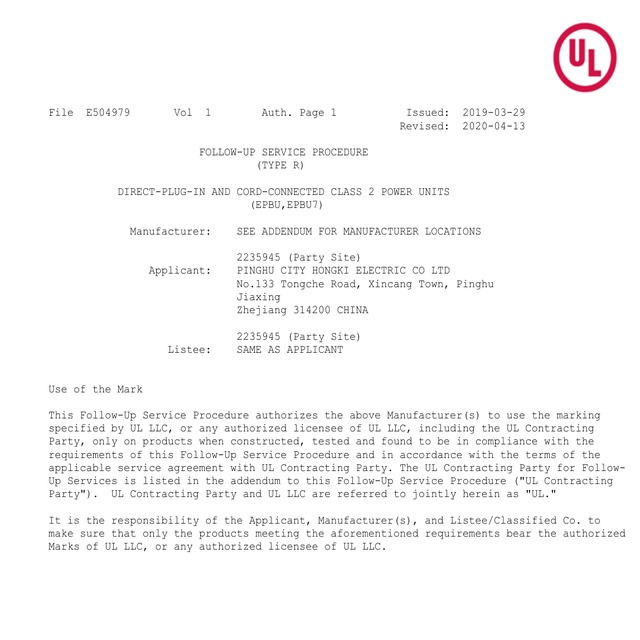ul: (552, 23, 618, 93)
